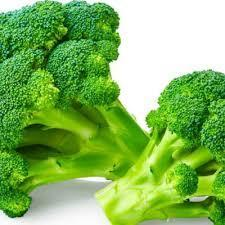broccoli: (0, 0, 151, 218), (94, 68, 224, 224)
